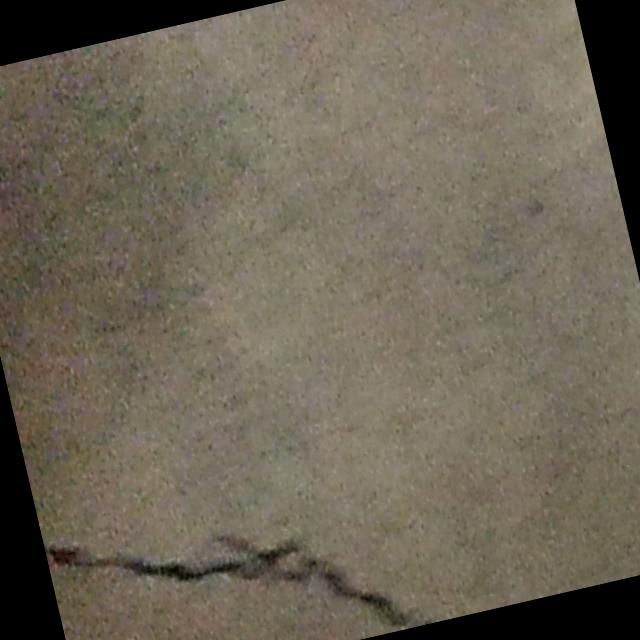crack: (44, 460, 435, 640)
